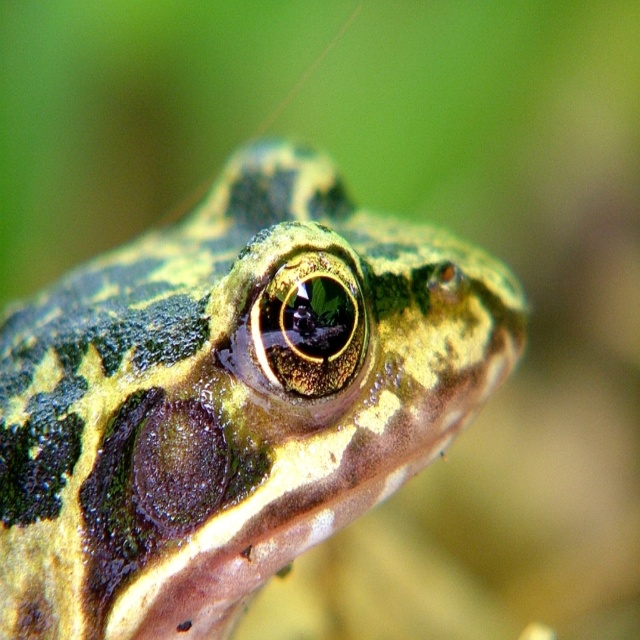Frog: (0, 134, 532, 639)
